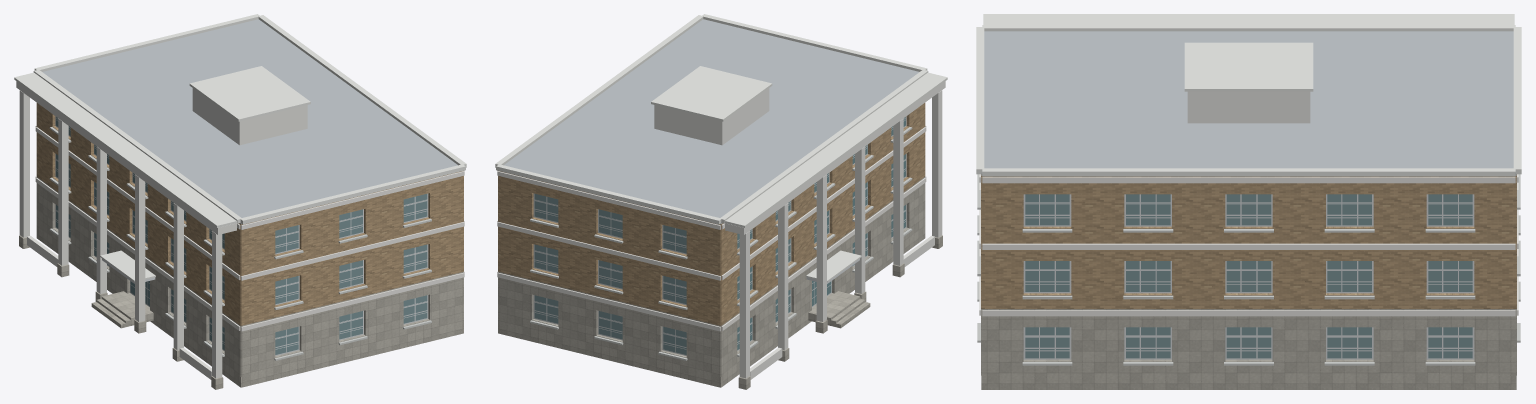
The picture shows the model from 3 angles, left to right: view 1: azimuth 30°, elevation 25°; view 2: azimuth 150°, elevation 25°; view 3: azimuth 270°, elevation 25°; orthographic projection. The views are drawn at different scales.
Parts seen in each view (by area): view 1: sculpture-mac__metalroof, sculpture-mac__cream, sculpture-mac__stone, sculpture-mac__cap, sculpture-mac__panel, sculpture-mac__band, sculpture-mac__sideglass, sculpture-mac__frame, sculpture-mac__sill, sculpture-mac__glass, sculpture-mac__stair-west, sculpture-mac__threshold-west; view 2: sculpture-mac__metalroof, sculpture-mac__cream, sculpture-mac__stone, sculpture-mac__cap, sculpture-mac__panel, sculpture-mac__band, sculpture-mac__sideglass, sculpture-mac__frame, sculpture-mac__sill, sculpture-mac__glass, sculpture-mac__stair-west, sculpture-mac__threshold-west; view 3: sculpture-mac__metalroof, sculpture-mac__cream, sculpture-mac__stone, sculpture-mac__cap, sculpture-mac__sideglass, sculpture-mac__band, sculpture-mac__frame, sculpture-mac__sill, sculpture-mac__panel.
Part boxes in pixels (x1=…): sculpture-mac__metalroof: x1=42, y1=19, x2=457, y2=224; sculpture-mac__cream: x1=36, y1=103, x2=463, y2=325; sculpture-mac__stone: x1=19, y1=177, x2=463, y2=389; sculpture-mac__cap: x1=14, y1=14, x2=466, y2=281; sculpture-mac__panel: x1=16, y1=81, x2=307, y2=379; sculpture-mac__band: x1=35, y1=125, x2=464, y2=331; sculpture-mac__sideglass: x1=275, y1=194, x2=427, y2=354; sculpture-mac__frame: x1=55, y1=116, x2=428, y2=355; sculpture-mac__sill: x1=49, y1=127, x2=431, y2=360; sculpture-mac__glass: x1=56, y1=117, x2=224, y2=349; sculpture-mac__stair-west: x1=91, y1=295, x2=134, y2=328; sculpture-mac__threshold-west: x1=107, y1=291, x2=153, y2=322; sculpture-mac__metalroof: x1=504, y1=19, x2=919, y2=224; sculpture-mac__cream: x1=498, y1=103, x2=925, y2=325; sculpture-mac__stone: x1=498, y1=177, x2=942, y2=389; sculpture-mac__cap: x1=495, y1=14, x2=947, y2=281; sculpture-mac__panel: x1=654, y1=81, x2=945, y2=379; sculpture-mac__band: x1=497, y1=125, x2=926, y2=331; sculpture-mac__sideglass: x1=534, y1=194, x2=686, y2=354; sculpture-mac__frame: x1=533, y1=116, x2=906, y2=355; sculpture-mac__sill: x1=530, y1=127, x2=912, y2=360; sculpture-mac__glass: x1=737, y1=117, x2=905, y2=349; sculpture-mac__stair-west: x1=827, y1=295, x2=870, y2=328; sculpture-mac__threshold-west: x1=808, y1=291, x2=854, y2=322; sculpture-mac__metalroof: x1=981, y1=31, x2=1516, y2=175; sculpture-mac__cream: x1=981, y1=174, x2=1516, y2=308; sculpture-mac__stone: x1=981, y1=308, x2=1516, y2=389; sculpture-mac__cap: x1=976, y1=14, x2=1521, y2=176; sculpture-mac__sideglass: x1=1025, y1=194, x2=1472, y2=358; sculpture-mac__band: x1=979, y1=174, x2=1518, y2=316; sculpture-mac__frame: x1=1023, y1=194, x2=1474, y2=359; sculpture-mac__sill: x1=977, y1=174, x2=1520, y2=365; sculpture-mac__panel: x1=1187, y1=91, x2=1310, y2=123.
Bounding box in the file's own units: 19.72 × 14.07 × 27.5.
12 materials, 2 textured.
